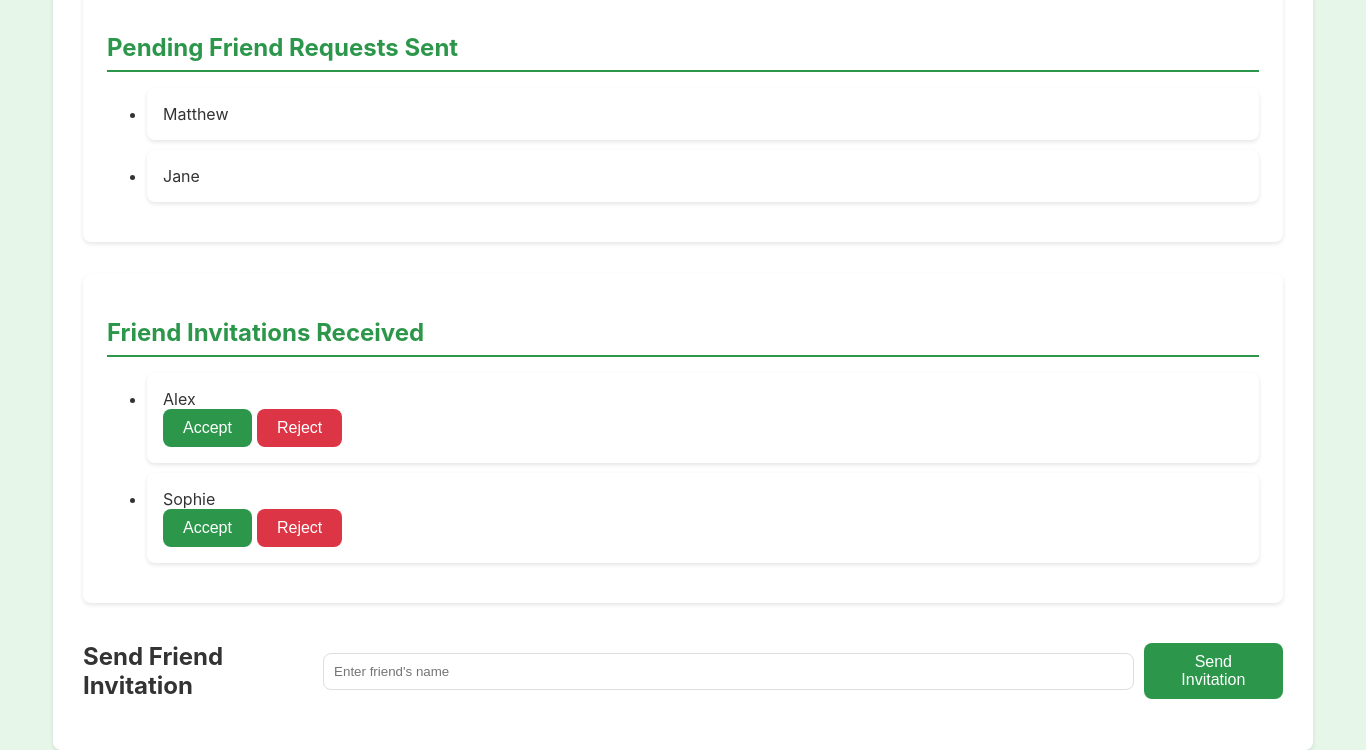
Test: FriendsPage › allows rejecting a friend invitation
This screenshot has width=1366, height=750.
(page scrolled)
Click the button "Reject" below "Alex".
click(300, 428)  # box [257,408,342,446]
(page scrolled)
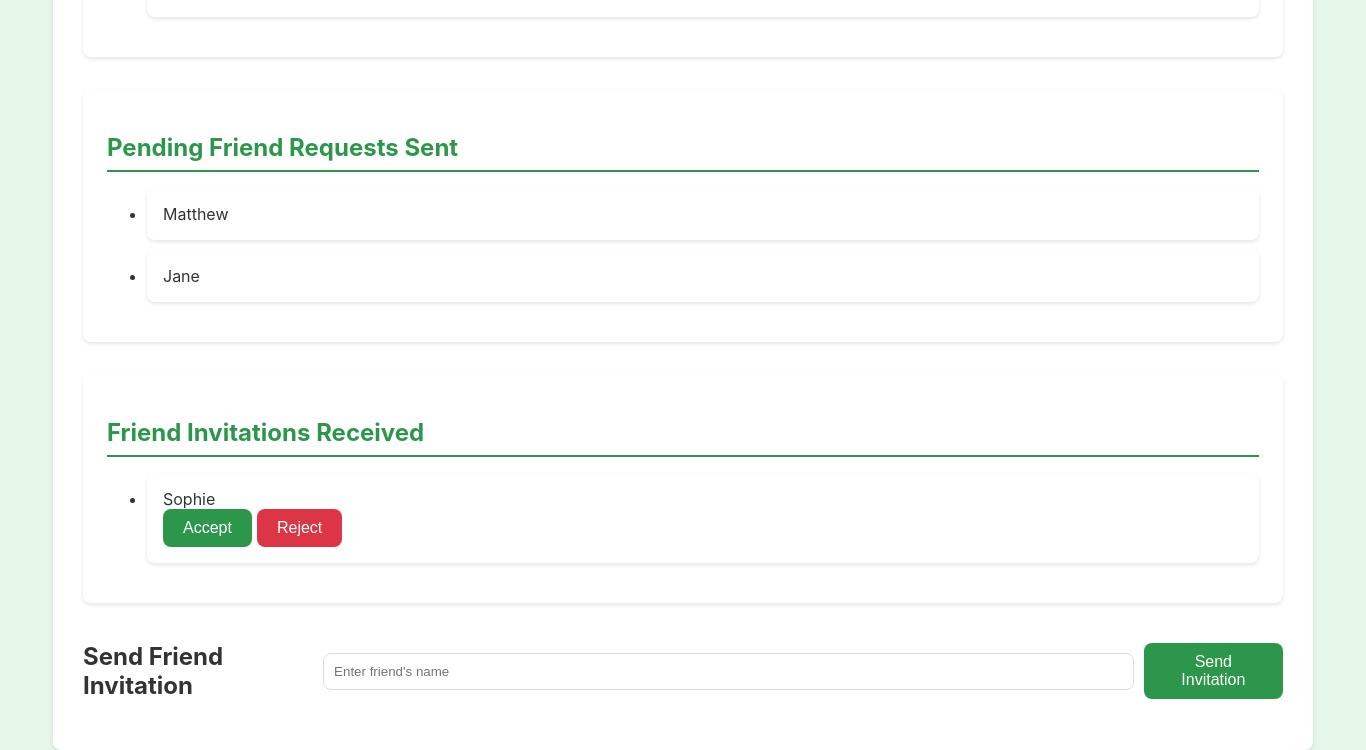
expect the list item "Alex" is gone: met
